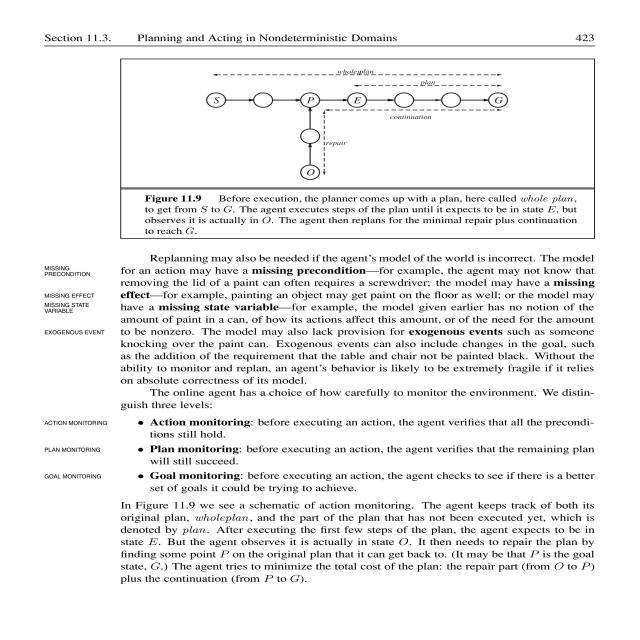diagram: (123, 60, 601, 241)
